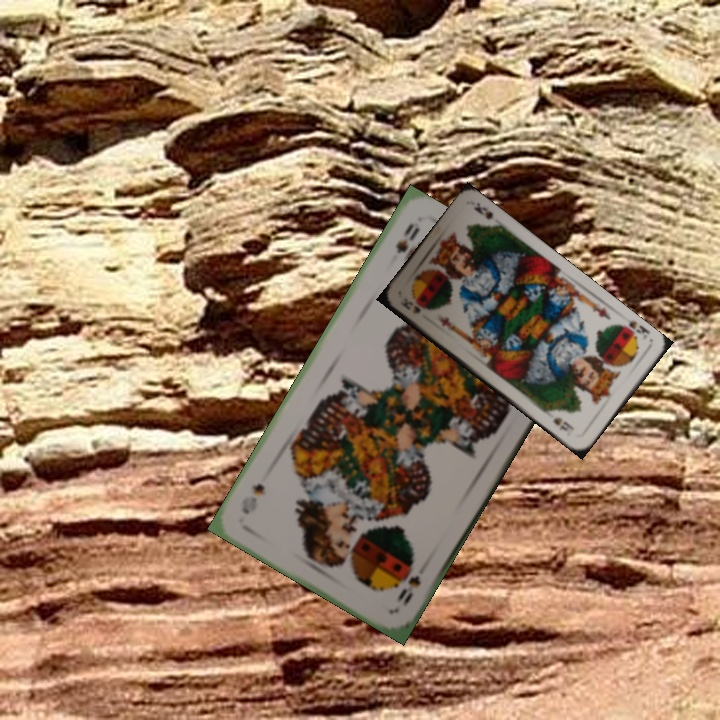SK: (624, 316, 652, 337), (397, 298, 423, 316)
SO: (392, 562, 424, 609), (391, 219, 422, 257)
